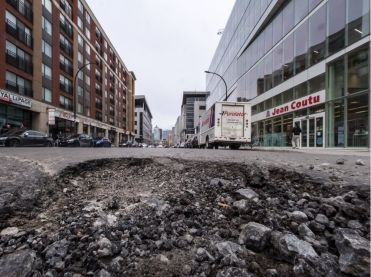pothole: (51, 143, 363, 258)
